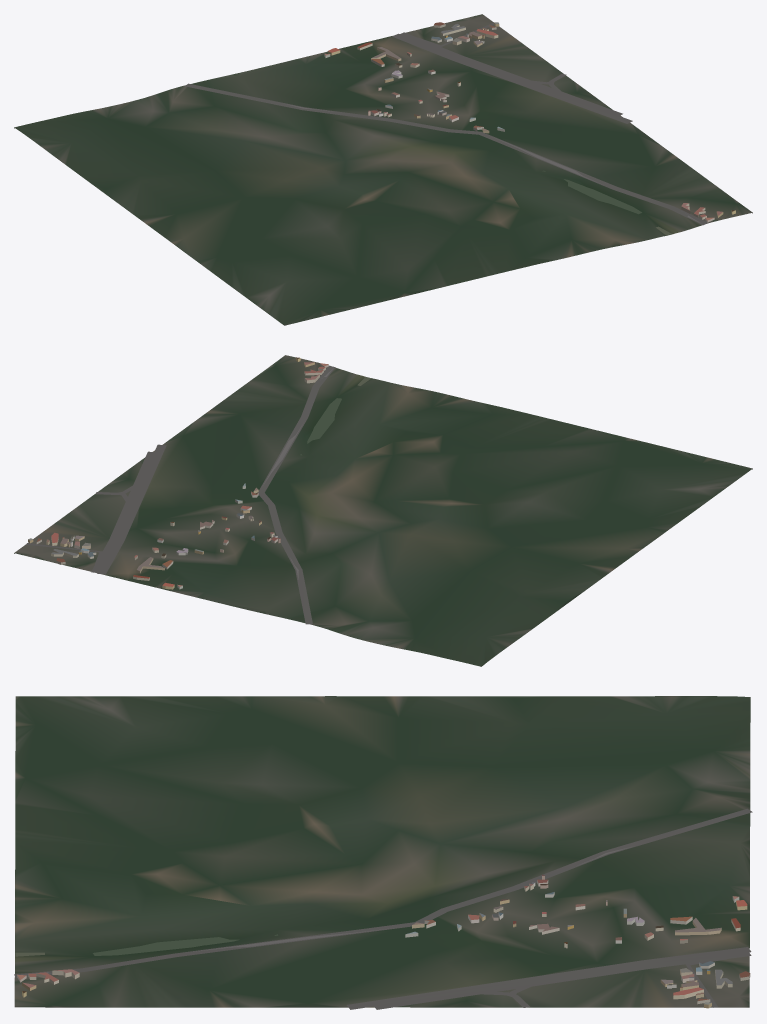
3 renders of one model, top to bottom at view 1: azimuth 30°, elevation 25°; view 2: azimuth 150°, elevation 25°; view 3: azimuth 270°, elevation 25°, orthographic. The views are drawn at different scales.
Visible parts, largest first — view 1: ground, roads, buildings, water; view 2: ground, roads, buildings, water; view 3: ground, roads, buildings, water.
Boxes of the visible parts, x1=… form: ground: x1=14, y1=14, x2=752, y2=325; roads: x1=185, y1=22, x2=708, y2=225; buildings: x1=324, y1=22, x2=735, y2=222; water: x1=542, y1=170, x2=671, y2=235; ground: x1=14, y1=355, x2=752, y2=666; roads: x1=26, y1=365, x2=335, y2=624; buildings: x1=28, y1=357, x2=328, y2=589; water: x1=300, y1=376, x2=371, y2=455; ground: x1=14, y1=696, x2=750, y2=1007; roads: x1=14, y1=808, x2=752, y2=1009; buildings: x1=17, y1=874, x2=750, y2=1008; water: x1=15, y1=934, x2=277, y2=956.
Bounding box in the file's own units: 1410 × 23.68 × 1410.
